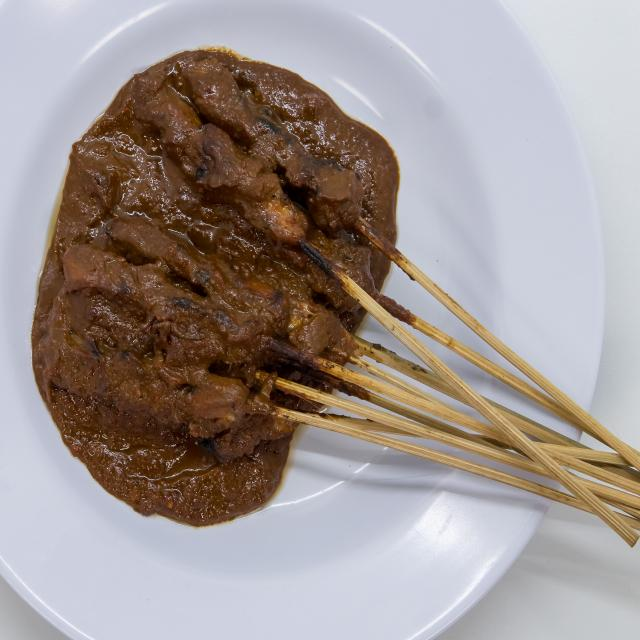Sate-Ayam: (22, 30, 402, 562)
